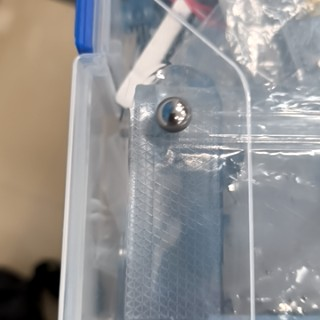ironball: (152, 95, 195, 137)
